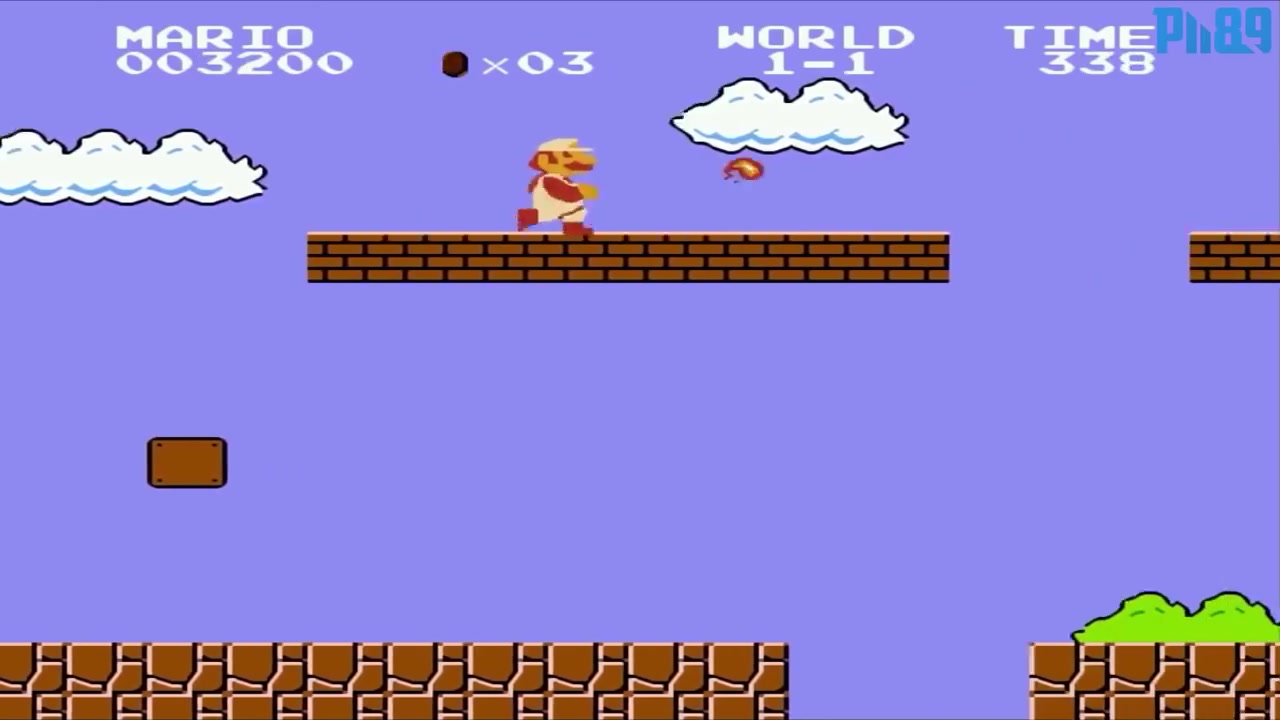mario: (514, 124, 595, 259)
